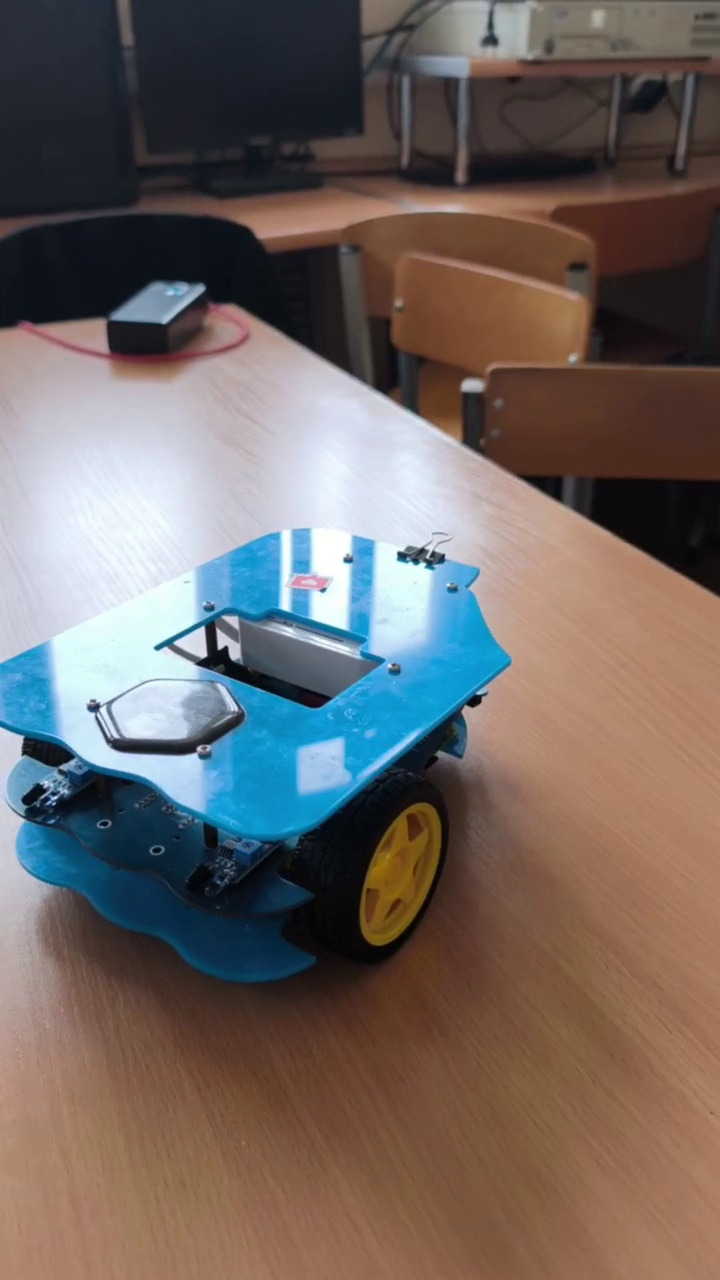robot: (1, 526, 512, 987)
